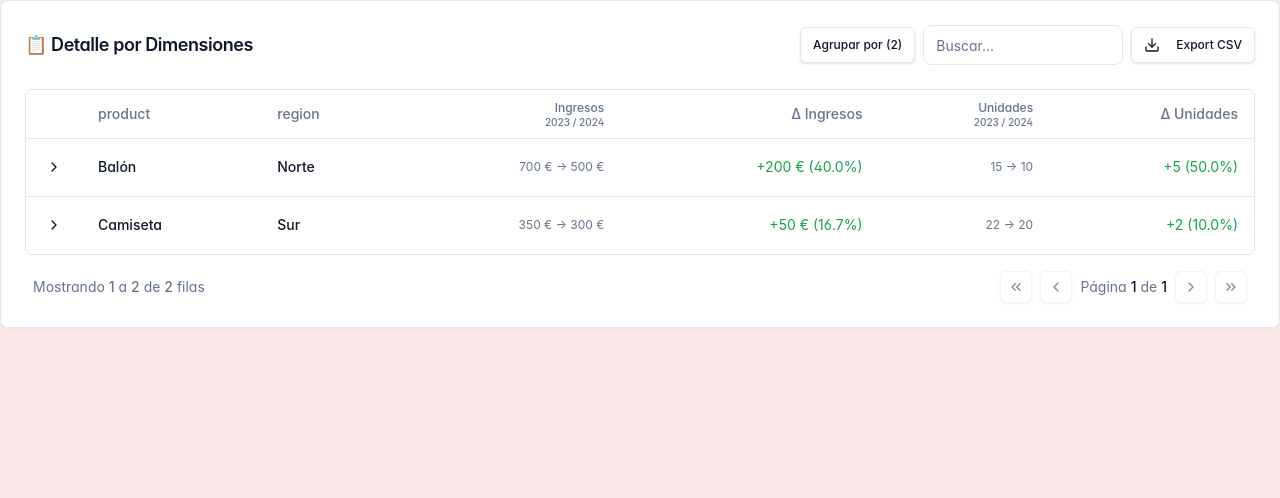
Test: GranularTable › Expansión de Filas › debe expandir fila al hacer click en botón de expansión
Click the button with test id "expand-button" at (54, 166), box [42,154,66,178]
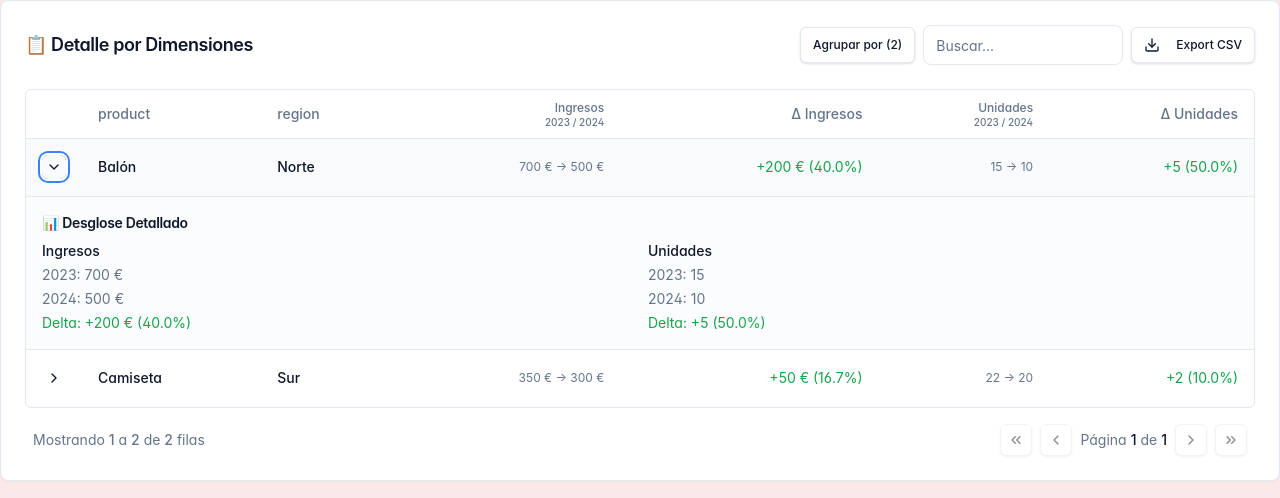
Expected: the heading "📊 Desglose Detallado" is shown, [42,214,188,230]
